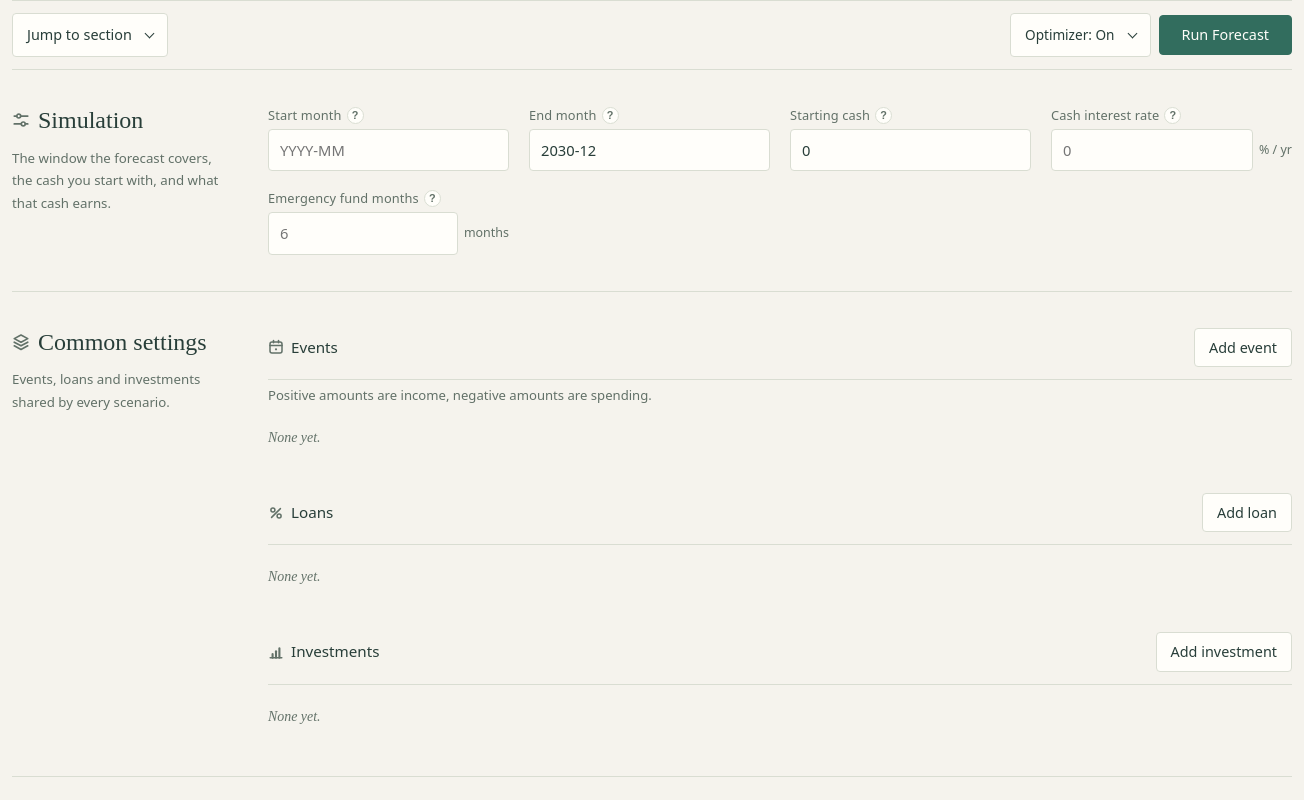
Test case: finding optimized events › says so when an optimized event sits in an inactive scenario
Click the button with class "optctl__list" at (1080, 35), box x1=1010 y1=13 x2=1150 y2=57
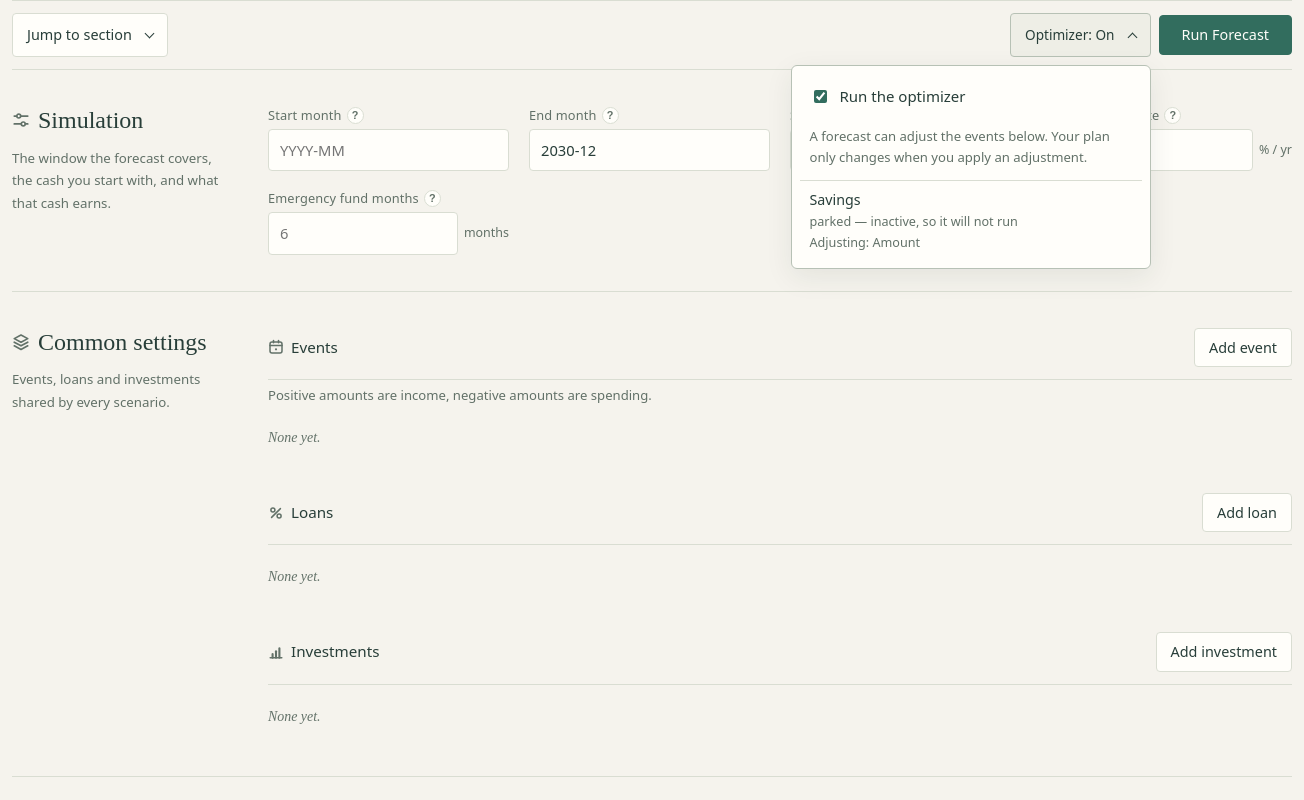
Expected: the button with class "optctl__entry" shows "inactive", x1=800 y1=181 x2=1142 y2=260
